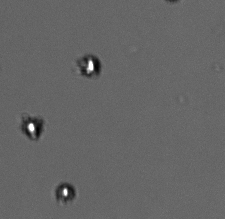Living Cell: (79, 53, 101, 77), (23, 118, 43, 140), (57, 183, 75, 203)
